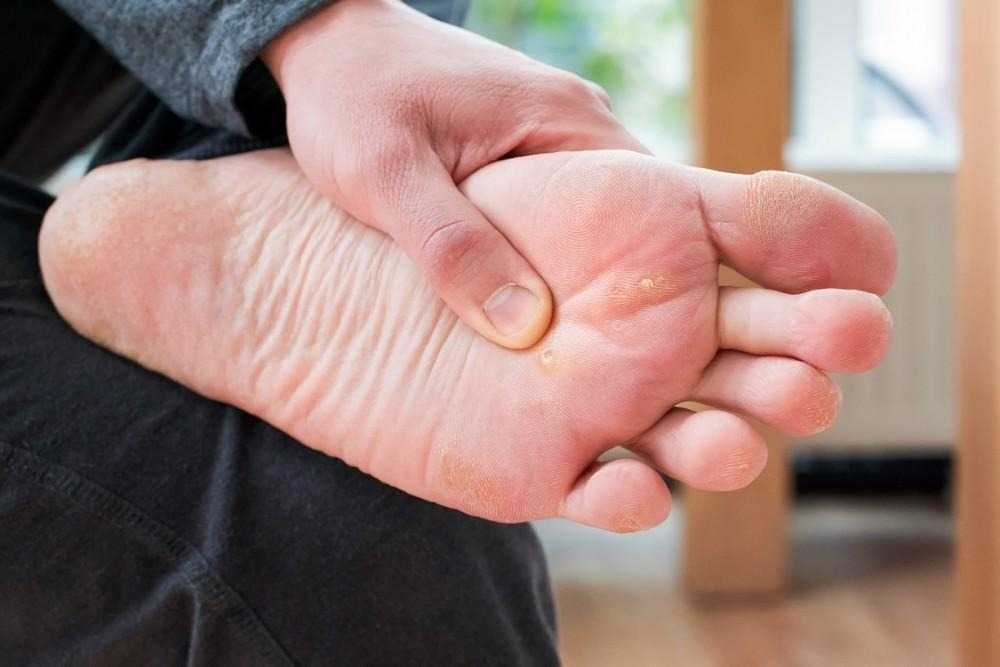Warts: (595, 263, 680, 324), (538, 345, 571, 377)
